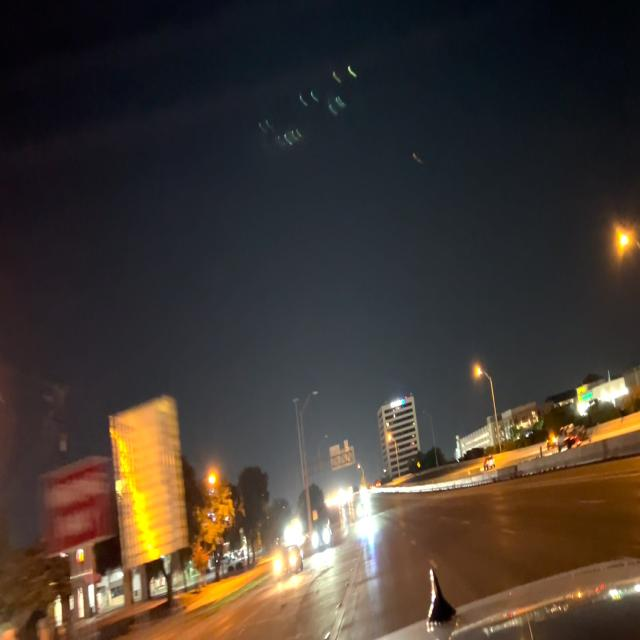back-of-sign: (113, 396, 191, 566)
